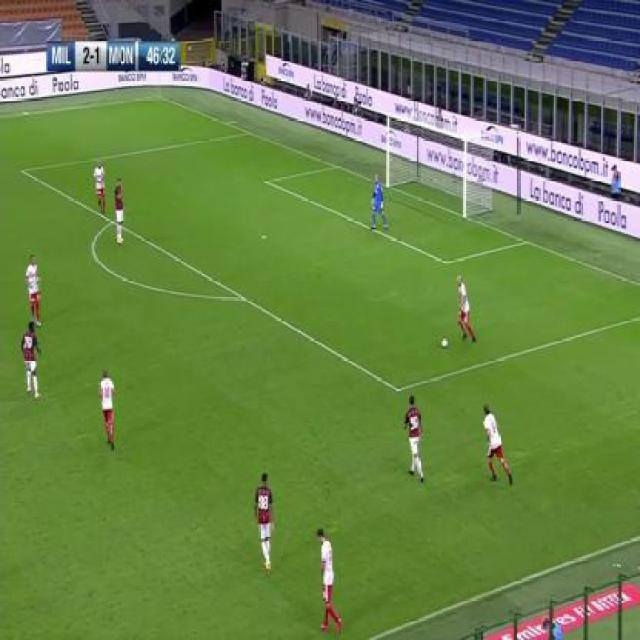ball: (441, 334, 449, 350)
player: (315, 527, 343, 635), (481, 402, 514, 487), (254, 472, 277, 577), (403, 393, 426, 482), (21, 320, 43, 402), (98, 367, 117, 452), (455, 271, 477, 344), (25, 253, 44, 324), (369, 171, 389, 233), (113, 174, 126, 247), (93, 156, 107, 216)
